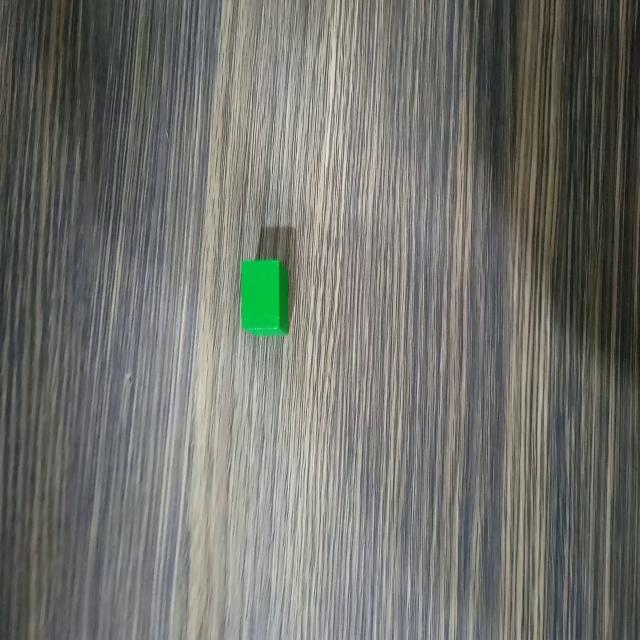cube: (239, 250, 292, 341)
